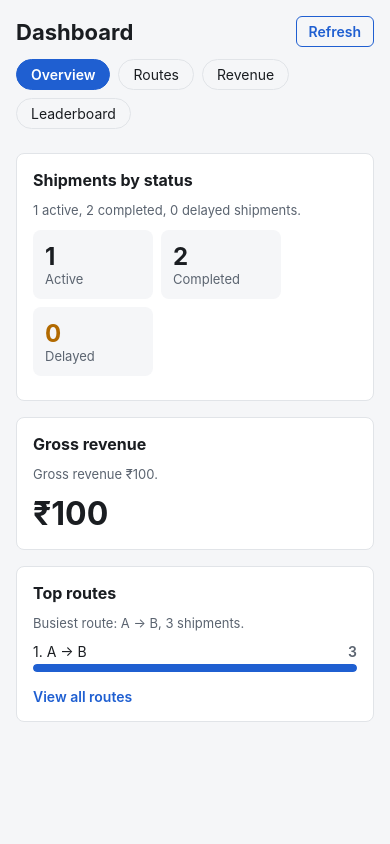
Test: AdminStack role gate › lets an admin navigate between all four views
expect the element with test id "widget-status" is shown: met, box 16,153 -> 374,401
Step 1. Click the tab with test id "admin-nav-RoutesHeatmap" → click(156, 74), box 118,59 -> 194,90
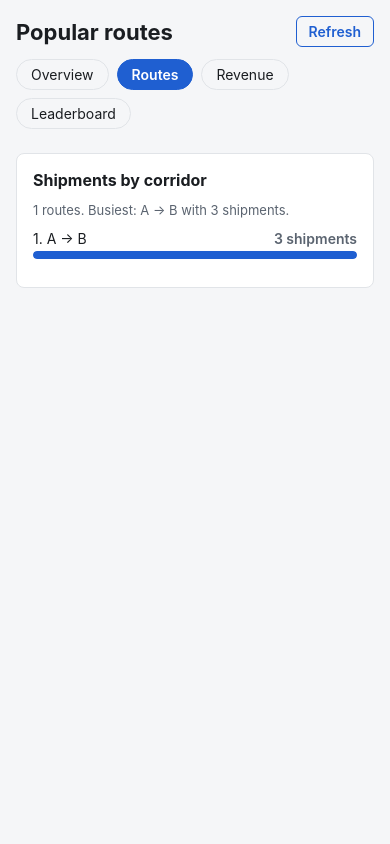
expect the element with test id "widget-routes" is shown: met, box 16,153 -> 374,288
